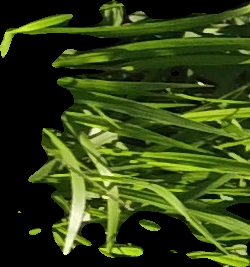grass: (1, 1, 248, 266)
